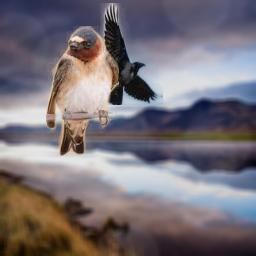Crow: (100, 3, 163, 105)
Swallow: (46, 26, 119, 156)
